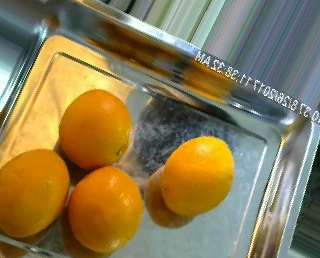Orange: (68, 165, 144, 253), (160, 135, 235, 216), (0, 149, 69, 237), (57, 88, 130, 169)
